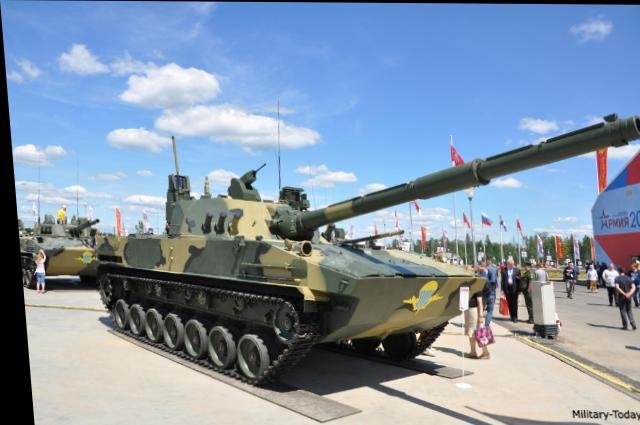other: (494, 252, 518, 321), (609, 267, 631, 329), (27, 248, 45, 294), (597, 258, 614, 302), (557, 256, 573, 299), (623, 262, 640, 302), (577, 260, 594, 298), (55, 205, 65, 220)
tank: (93, 191, 438, 361), (14, 215, 90, 284)
